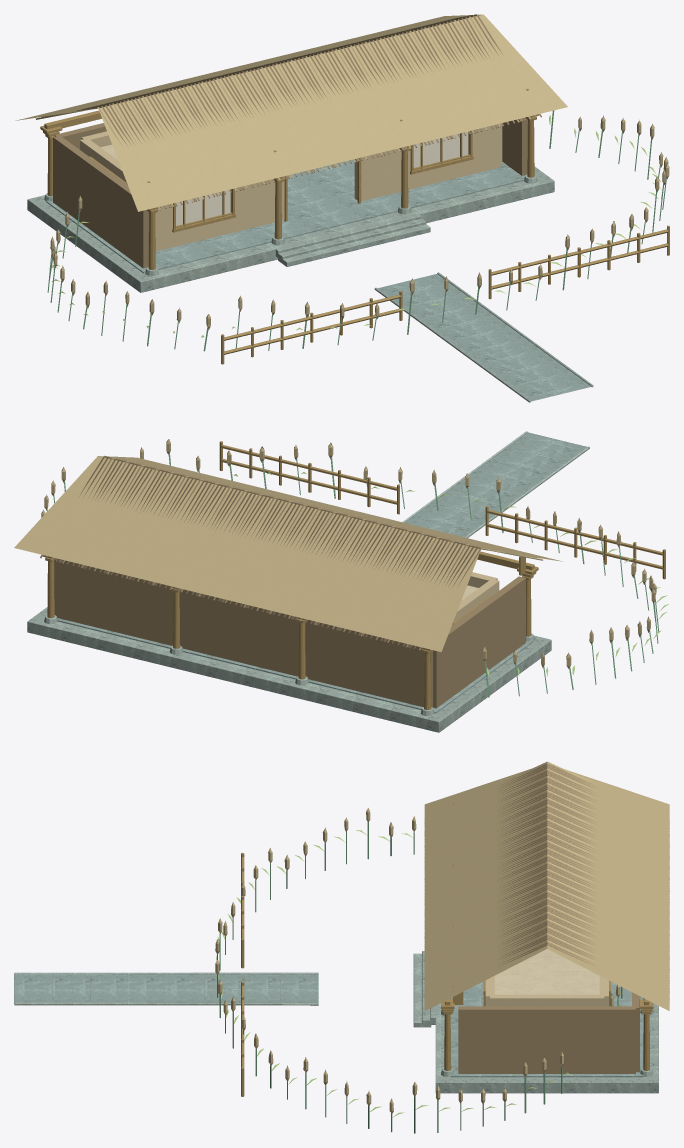
File: reference-public_models_places_luxuean.glb
The picture shows the model from 3 angles, top to bottom: view 1: azimuth 30°, elevation 25°; view 2: azimuth 150°, elevation 25°; view 3: azimuth 270°, elevation 25°; orthographic projection.
Visible parts, largest first — view 1: luxuean_thatch.001, luxuean_paving.001, luxuean_clay.001, luxuean_stone.001, r15_luxuean_enclosure_clay, luxuean_wood.001, r15_luxuean_enclosure_paper, luxuean_bamboo.001, r15_luxuean_enclosure_ochre; view 2: luxuean_thatch.001, luxuean_clay.001, luxuean_stone.001, luxuean_paving.001, luxuean_wood.001, luxuean_bamboo.001, r15_luxuean_enclosure_clay; view 3: luxuean_thatch.001, luxuean_clay.001, luxuean_paving.001, luxuean_stone.001, r15_luxuean_enclosure_ceiling, luxuean_wood.001, r15_luxuean_enclosure_clay, luxuean_bamboo.001, luxuean_lightleaf.001.
Boxes of the visible parts, x1,y1,x2,y2 form: luxuean_thatch.001: [15, 14, 669, 330]; luxuean_paving.001: [46, 159, 590, 400]; luxuean_clay.001: [41, 14, 541, 268]; luxuean_stone.001: [27, 166, 593, 402]; r15_luxuean_enclosure_clay: [80, 123, 502, 251]; luxuean_wood.001: [40, 88, 669, 364]; r15_luxuean_enclosure_paper: [176, 131, 468, 225]; luxuean_bamboo.001: [47, 110, 666, 351]; r15_luxuean_enclosure_ochre: [89, 130, 473, 232]; luxuean_thatch.001: [14, 439, 656, 668]; luxuean_clay.001: [40, 455, 536, 708]; luxuean_stone.001: [27, 431, 589, 732]; luxuean_paving.001: [57, 433, 586, 713]; luxuean_wood.001: [42, 441, 665, 709]; luxuean_bamboo.001: [46, 452, 659, 697]; r15_luxuean_enclosure_clay: [452, 572, 499, 624]; luxuean_thatch.001: [215, 761, 669, 1114]; luxuean_clay.001: [424, 763, 669, 1073]; luxuean_paving.001: [14, 974, 643, 1077]; luxuean_stone.001: [14, 951, 658, 1093]; r15_luxuean_enclosure_ceiling: [494, 949, 599, 994]; luxuean_wood.001: [241, 803, 653, 1096]; r15_luxuean_enclosure_clay: [485, 976, 608, 1006]; luxuean_bamboo.001: [217, 822, 622, 1133]; luxuean_lightleaf.001: [216, 830, 623, 1117].
Size of the model in its own units: 26.34 by 6.07 by 25.85.
Materials: 10 (9 with a texture image).
